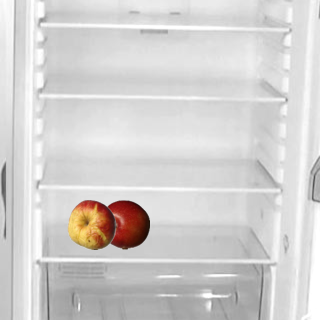Apple Braeburn: (99, 199, 149, 249)
Apple Red Yellow 1: (66, 199, 116, 249)
